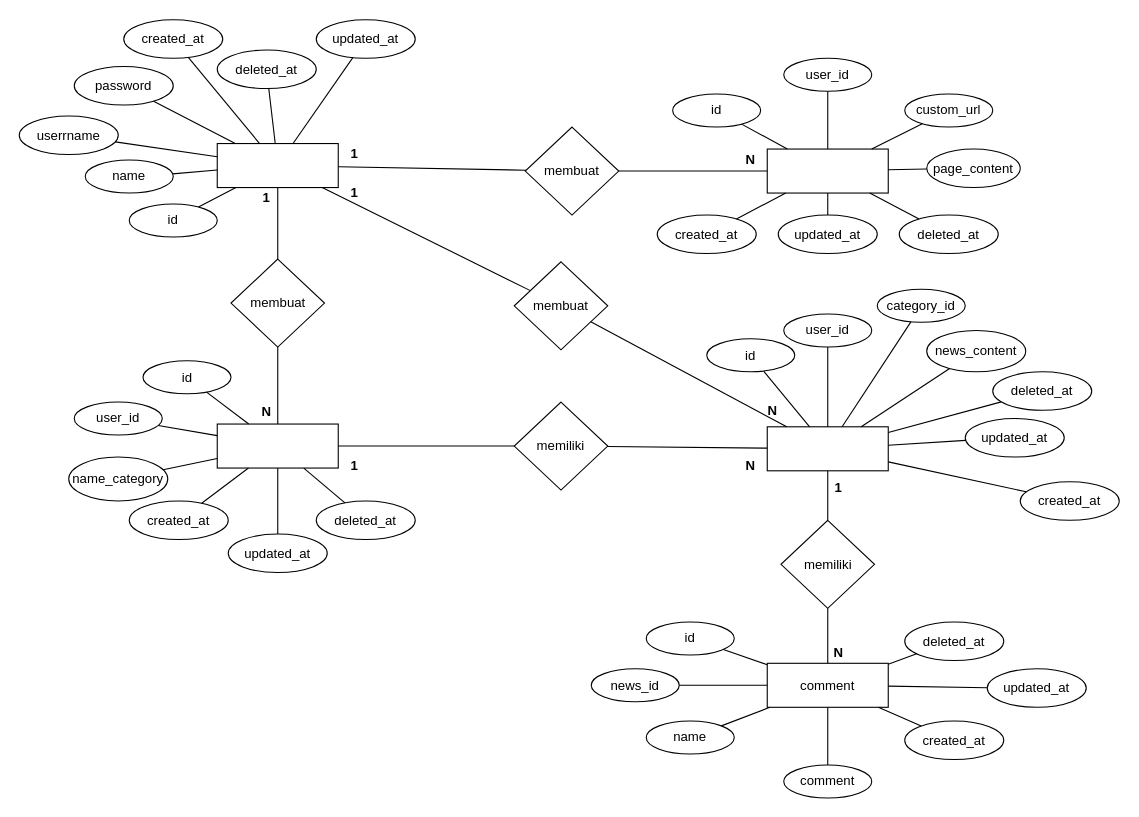
Image size: 1139x817. Some labels were removed from this diagram. The shapes that lost their labels are listed below. From the top down, each one's centre as x and y in pixels, then its label:
At (277,165): "user".
At (827,170): "custom_page".
At (277,445): "category".
At (827,448): "news".
